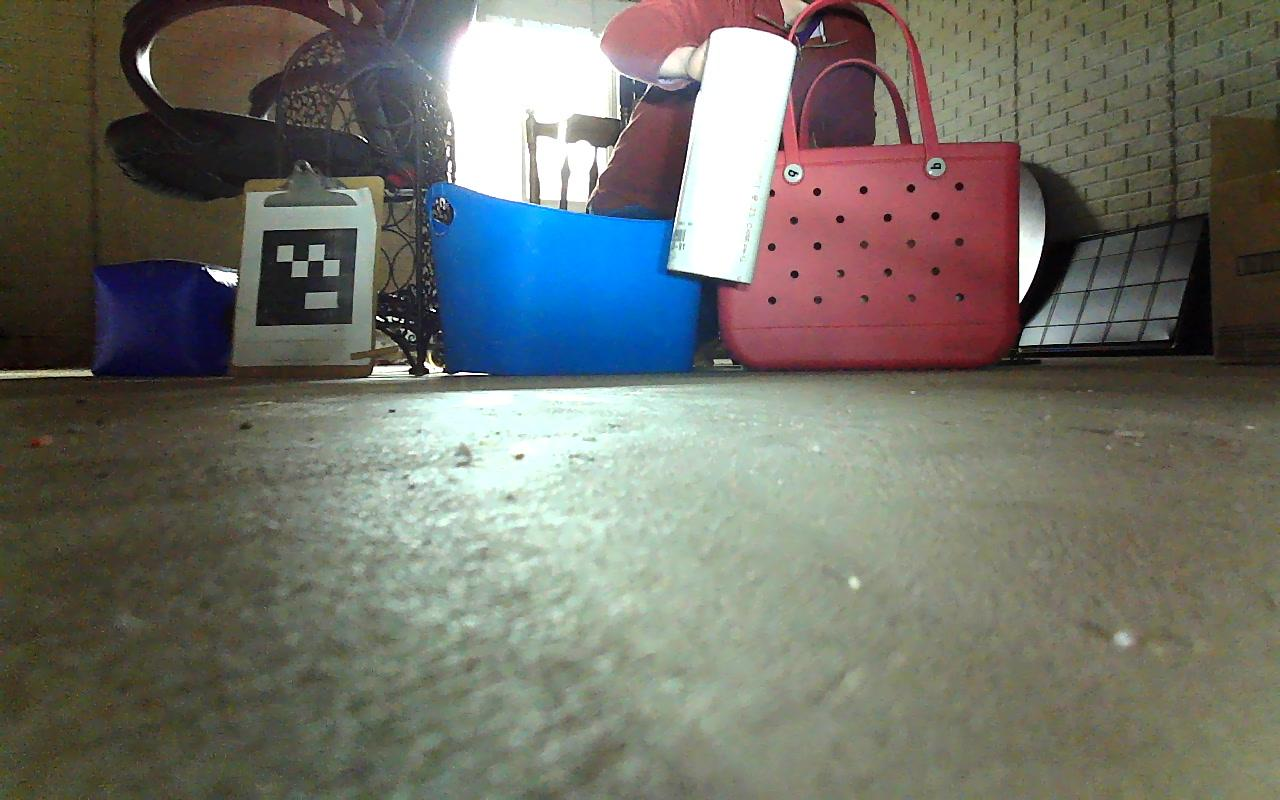coral: (662, 25, 800, 279)
